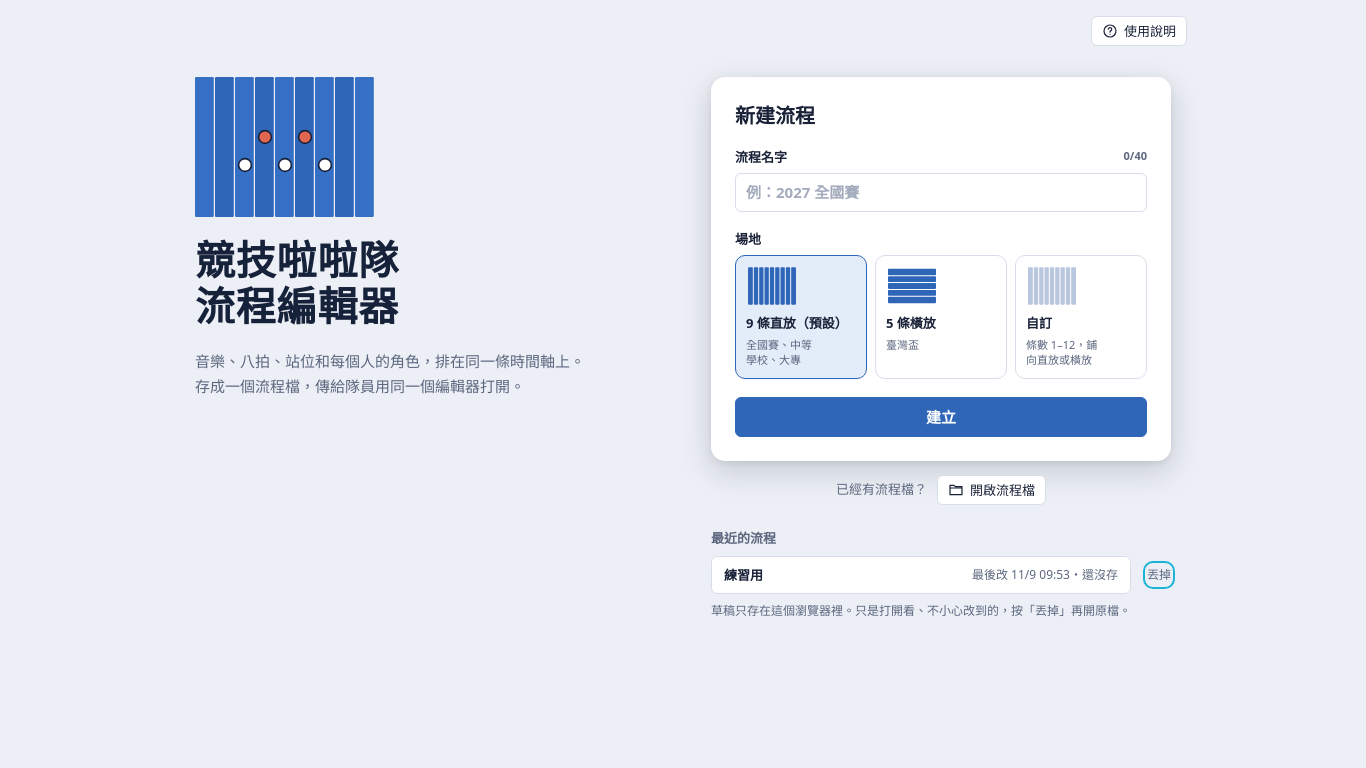
Test: 首頁：最近的流程 › 「丟掉」的確認是對話框：焦點先在「取消」，Escape 等於取消，焦點回到「丟掉」
The width and height of the screenshot is (1366, 768).
Click the button with aria-label "丟掉「練習用」" at (1159, 575), box [1147, 565, 1171, 585]
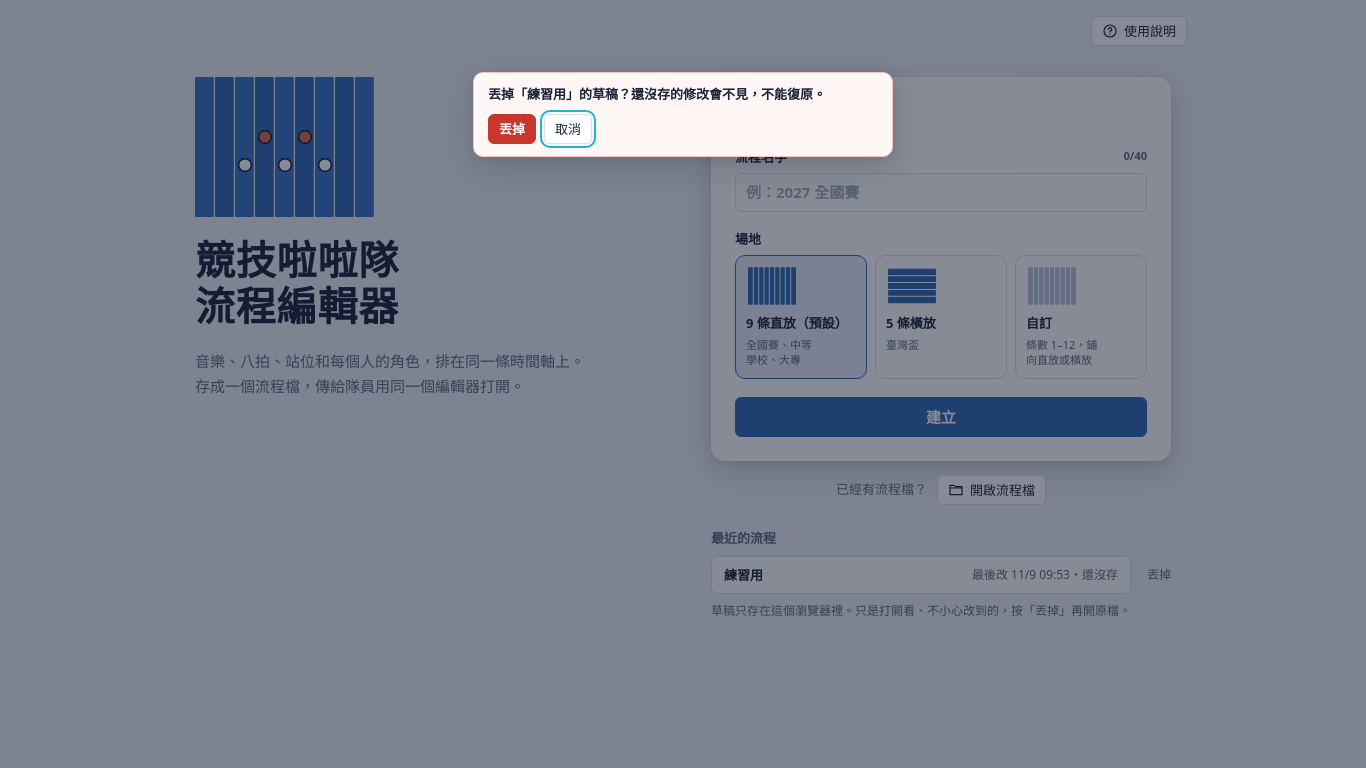
Press Escape in the button "取消", box [544, 114, 592, 144]
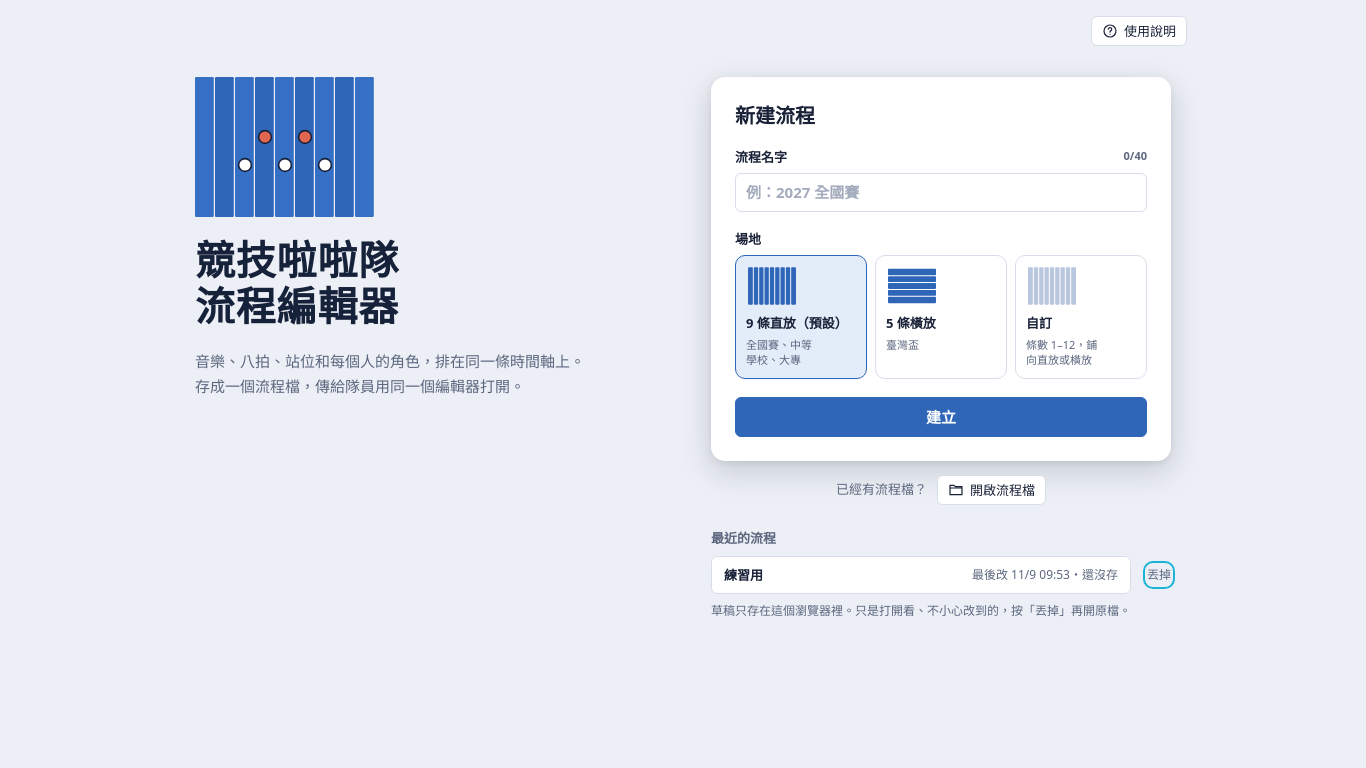
Now the dialog is gone
